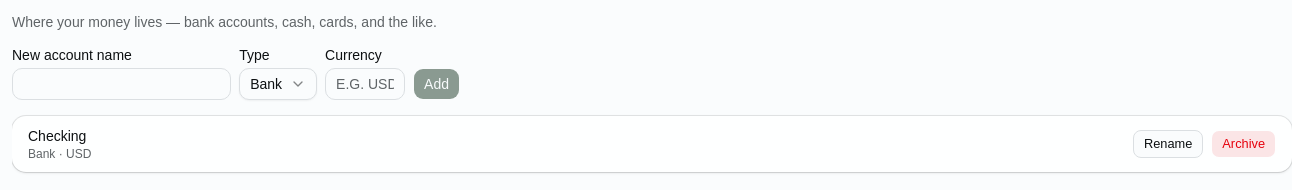
Test: AccountsSettings › archives an account and removes it from the list
Click the button "Archive" at point(1244, 144), box x1=1211 y1=130 x2=1276 y2=158
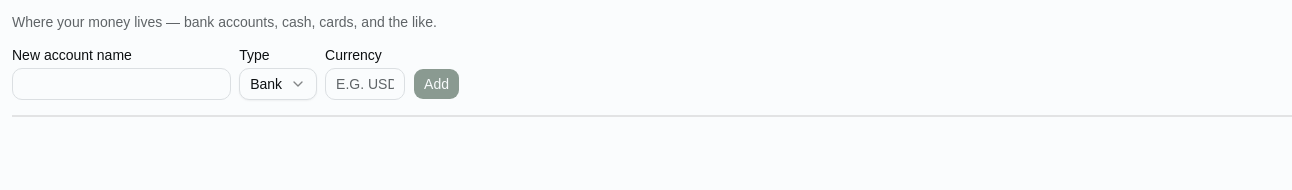
Result: the text "Checking" is gone
